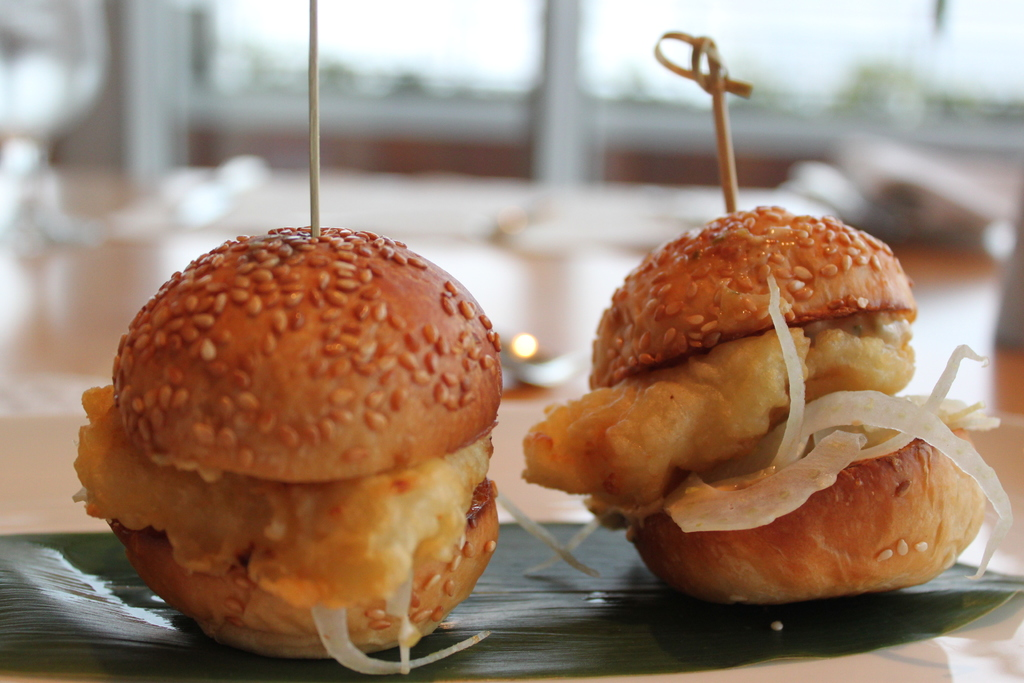Hamburger: (65, 222, 596, 672), (517, 205, 1009, 601)
